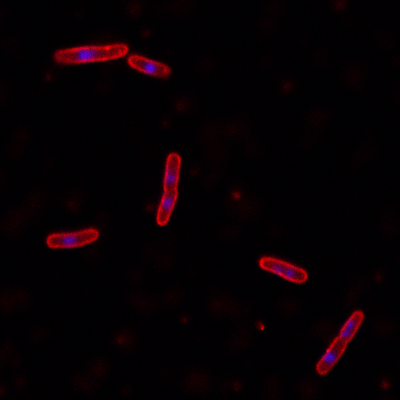Nalidixate: (315, 310, 365, 377), (155, 152, 180, 226), (259, 255, 308, 285), (45, 227, 99, 249)
Oblique: (52, 43, 129, 66), (126, 54, 172, 80)
Vesicle: (230, 189, 242, 201)
